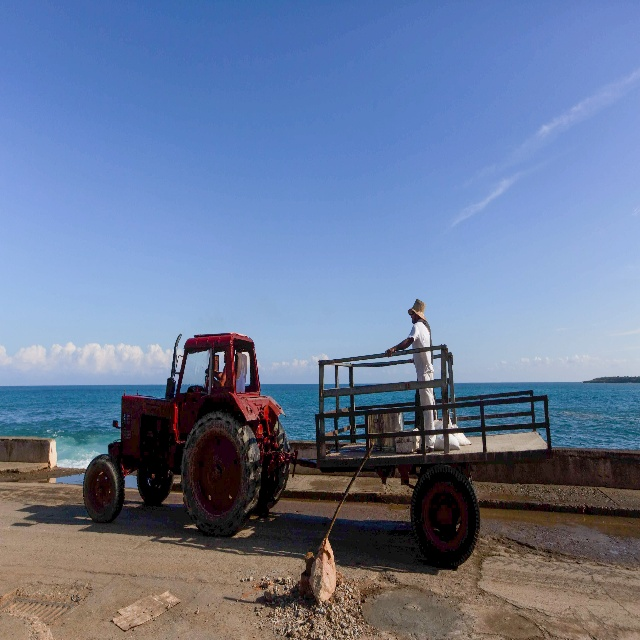Sin_guantes: (384, 346, 394, 358)
